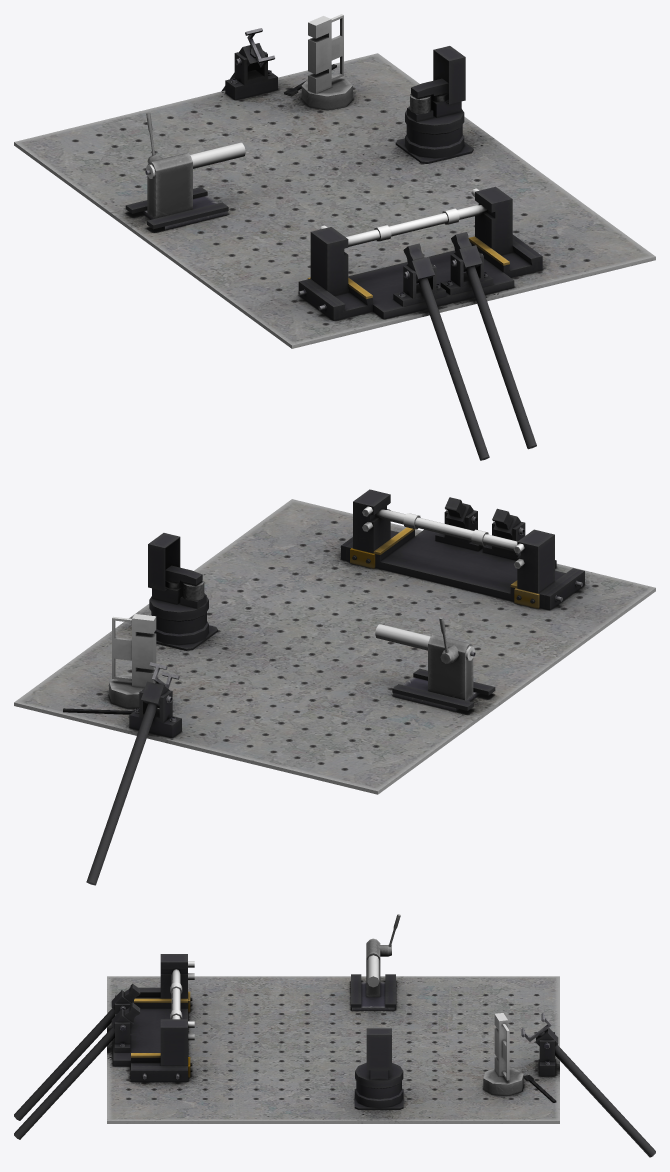
The model's file is Mesa alineacion cuadro.FBX.
3 renders of one model, top to bottom at view 1: azimuth 30°, elevation 25°; view 2: azimuth 150°, elevation 25°; view 3: azimuth 270°, elevation 25°, orthographic. The views are drawn at different scales.
Parts seen in each view (by area): view 1: Mesa_agujeros, Base_superior_001, Box004, Base_sostenedor_tubo, Corrediza_002, Corrediza_003, Manija_001, Manija_002, Box005, Arco Eje, Detal_003, Cylinder016 (+5 smaller); view 2: Mesa_agujeros, Base_superior_001, Box004, Base_sostenedor_tubo, Manija_003, Corrediza_002, Corrediza_003, Box005, Arco Eje, Detal_003, Cylinder012, Box003 (+5 smaller); view 3: Mesa_agujeros, Base_superior_001, Base_sostenedor_tubo, Manija_003, Manija_002, Manija_001, Corrediza_003, Detal_003, Corrediza_002, Cylinder016, lateral_003, Box005 (+6 smaller).
Part boxes in pixels (x1,y1,x2,y2): Mesa_agujeros: (14,53,655,348); Base_superior_001: (304,239,537,319); Box004: (147,153,192,218); Base_sostenedor_tubo: (405,106,464,158); Corrediza_002: (310,227,349,295); Corrediza_003: (475,186,513,255); Manija_001: (418,278,489,460); Manija_002: (465,266,536,449); Box005: (308,16,331,93); Arco Eje: (346,205,487,246); Detal_003: (433,46,465,104); Cylinder016: (301,75,352,110); Mesa_agujeros: (14,499,655,794); Base_superior_001: (346,529,579,608); Box004: (428,634,473,700); Base_sostenedor_tubo: (149,593,208,645); Manija_003: (86,682,164,885); Corrediza_002: (517,529,554,593); Corrediza_003: (353,489,390,553); Box005: (132,614,156,687); Arco Eje: (375,509,517,551); Detal_003: (148,533,180,591); Cylinder012: (375,624,474,660); Box003: (392,684,473,710); Mesa_agujeros: (107,976,559,1123); Base_superior_001: (113,989,187,1068); Base_sostenedor_tubo: (355,1062,403,1108); Manija_003: (537,1031,655,1157); Manija_002: (14,1027,114,1139); Manija_001: (14,1008,114,1120); Corrediza_003: (160,1019,187,1065); Detal_003: (366,1028,391,1070); Corrediza_002: (160,954,187,998); Cylinder016: (483,1068,523,1095); lateral_003: (131,1068,187,1081); Box005: (494,1013,507,1076).
Size of the model in its own units: 1.11 by 0.5881 by 2.08.
1 material, 1 textured.
